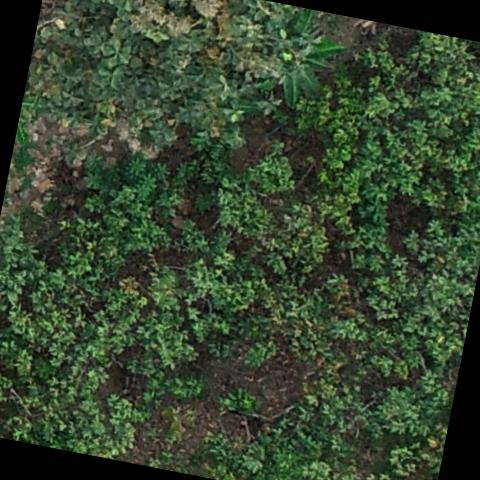Banana-plant: (243, 4, 356, 116)
